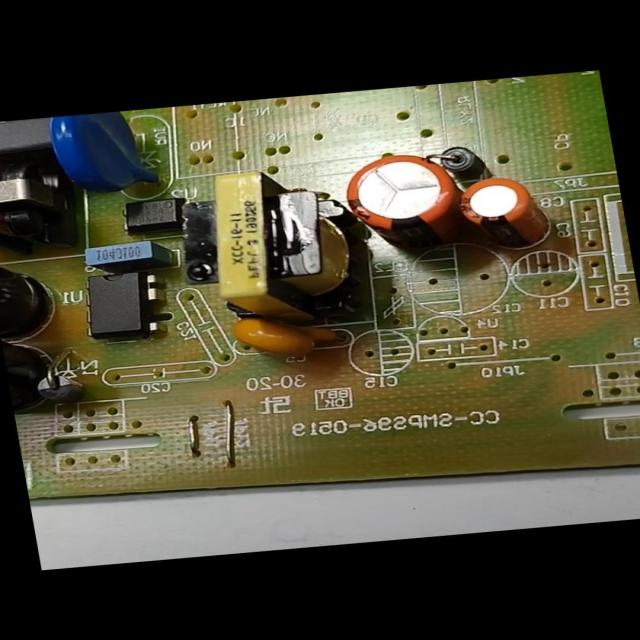Cap1: (334, 148, 468, 275)
Cap2: (453, 172, 552, 252)
Cap3: (0, 235, 56, 323)
Cap4: (0, 313, 60, 416)
MOSFET: (73, 266, 168, 344)
Mov: (43, 110, 154, 197)
Transformer: (177, 159, 369, 329), (0, 163, 53, 240)
